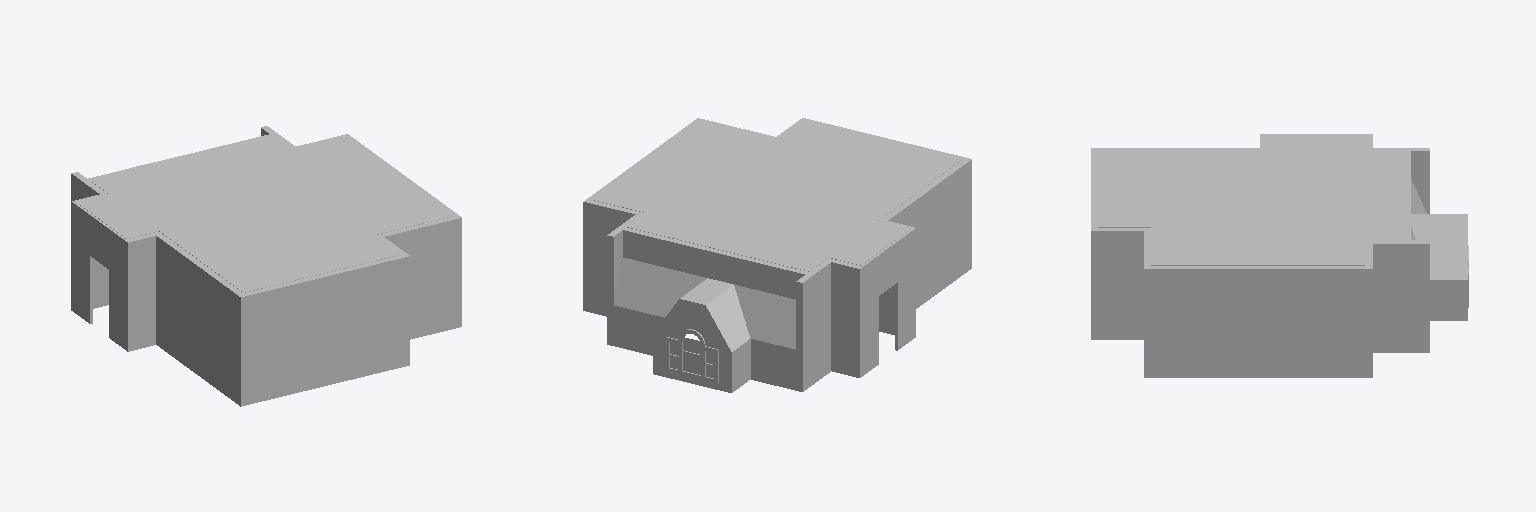
File: ben_room.obj
The picture shows the model from 3 angles: view 1: azimuth 30°, elevation 25°; view 2: azimuth 150°, elevation 25°; view 3: azimuth 270°, elevation 25°; orthographic projection.
Parts seen in each view (by area): view 1: polySurface2281; view 2: polySurface2281; view 3: polySurface2281.
Boxes of the visible parts, box(x1,y1,x2,y2) form: polySurface2281: box(71, 126, 461, 406); polySurface2281: box(583, 118, 971, 392); polySurface2281: box(1091, 134, 1468, 377).
Size of the model in its own units: 10.59 by 4.01 by 12.55.